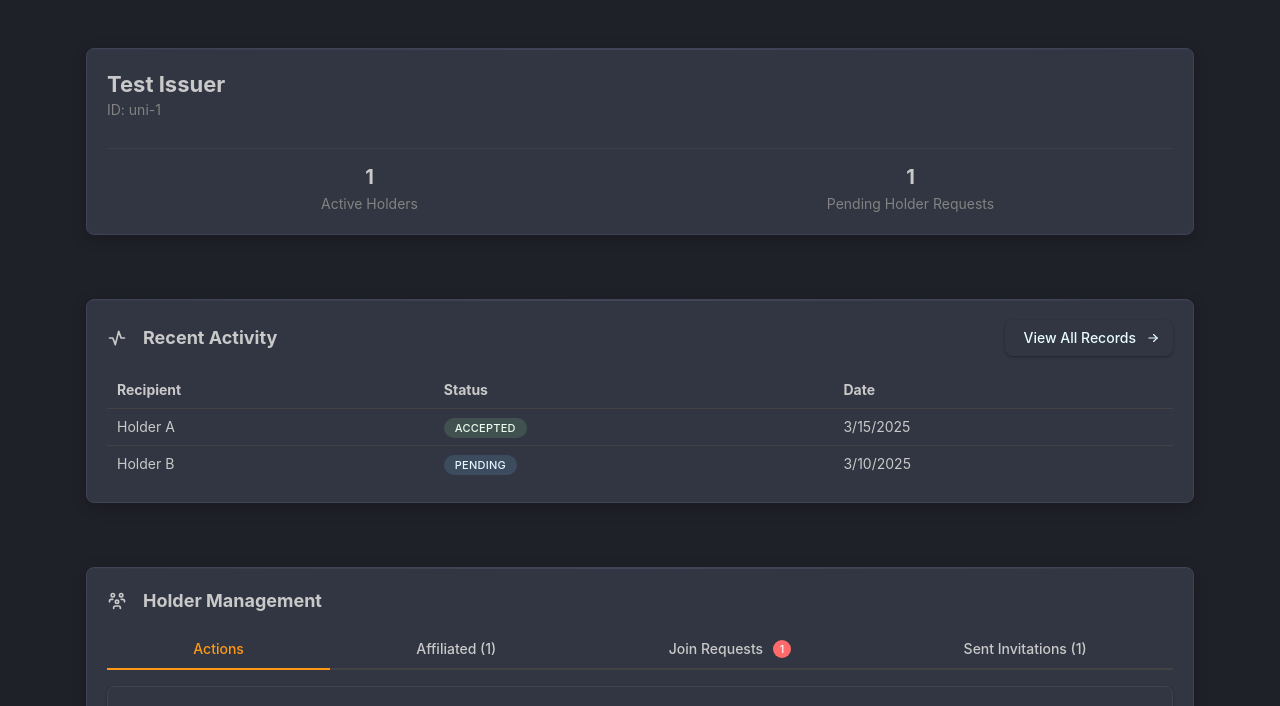
Scenario: ManageIssuer component › can switch to sent invitations tab and display pending invitations
# Click on the sent invitations tab
Click the tab "Sent Invitations (1)" at (1025,650), box [877,630,1173,670]
(page scrolled)
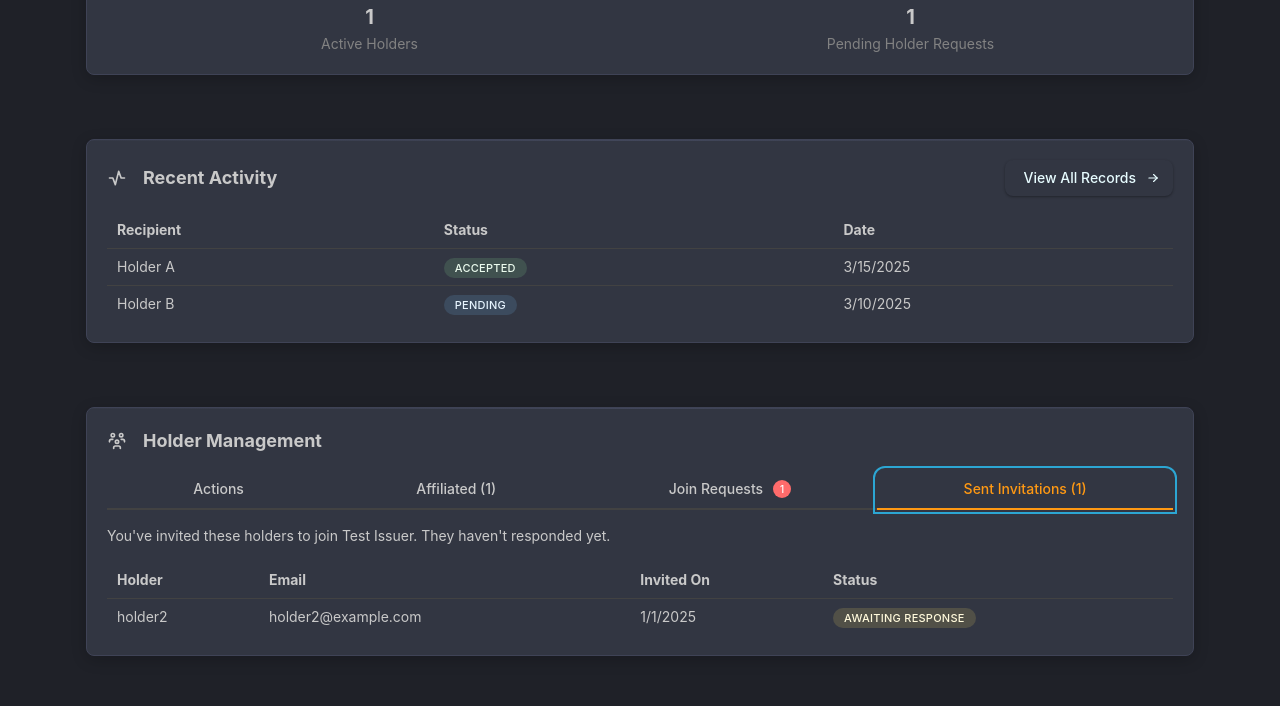
Expected: the text "You've invited these holders" is shown, [107,527,342,544]
Expected: the cell "holder2" is shown, [107,599,259,635]
Expected: the text "Awaiting Response" is shown, [844,609,965,627]
